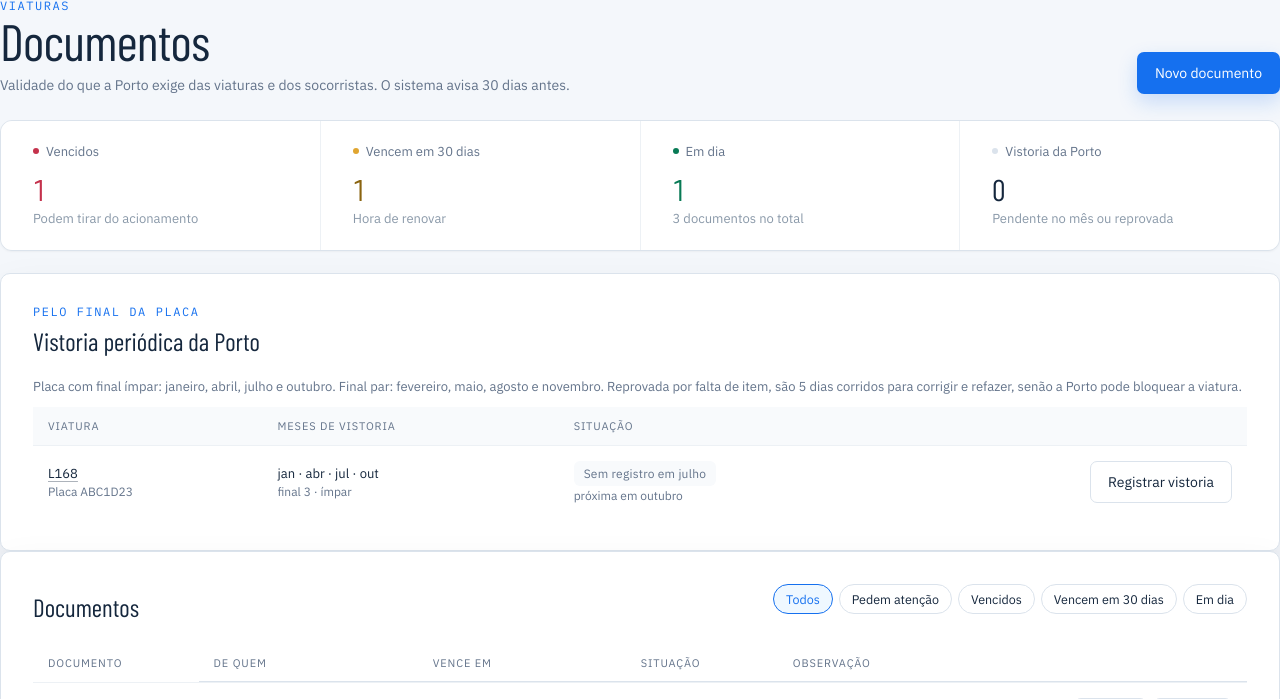
it: cadastra o documento de uma viatura
The image size is (1280, 699).
expect the 1st heading "Documentos" is shown: met, box [0,10,209,71]
Click the button "Novo documento": {"x": 1208, "y": 73} [1137,52,1279,94]
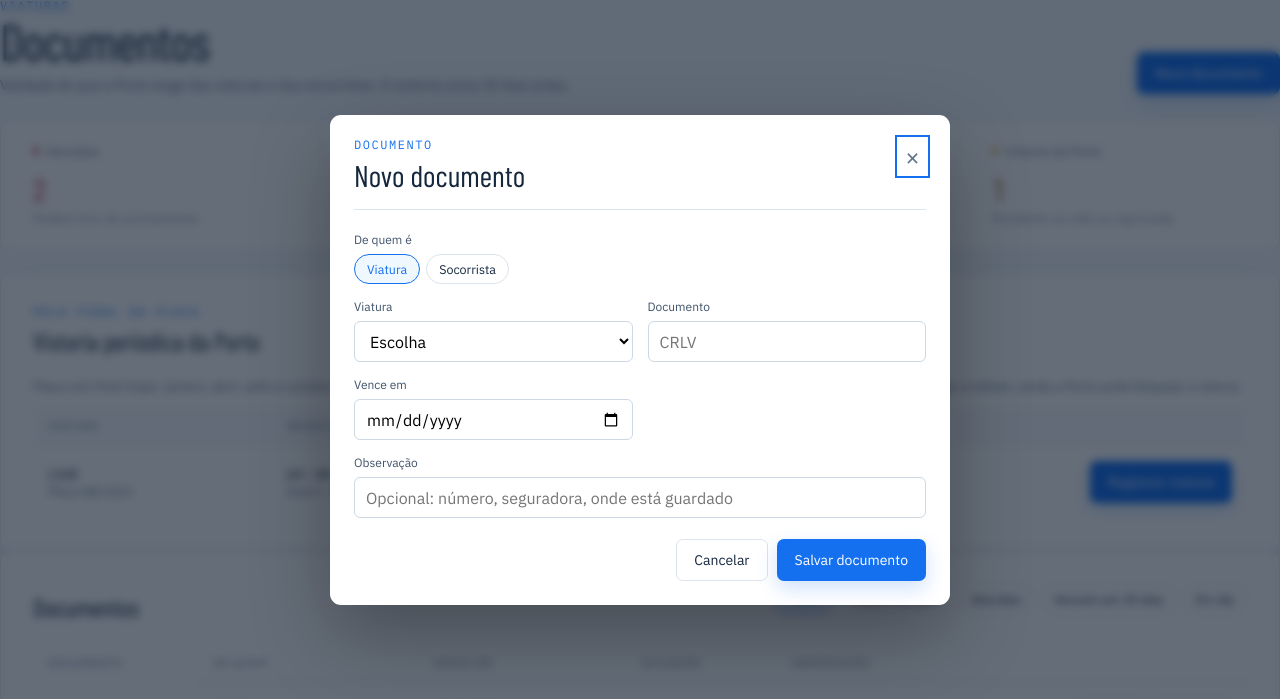
Click the dropdown labelled "Viatura": {"x": 493, "y": 342} [354,321,632,362]
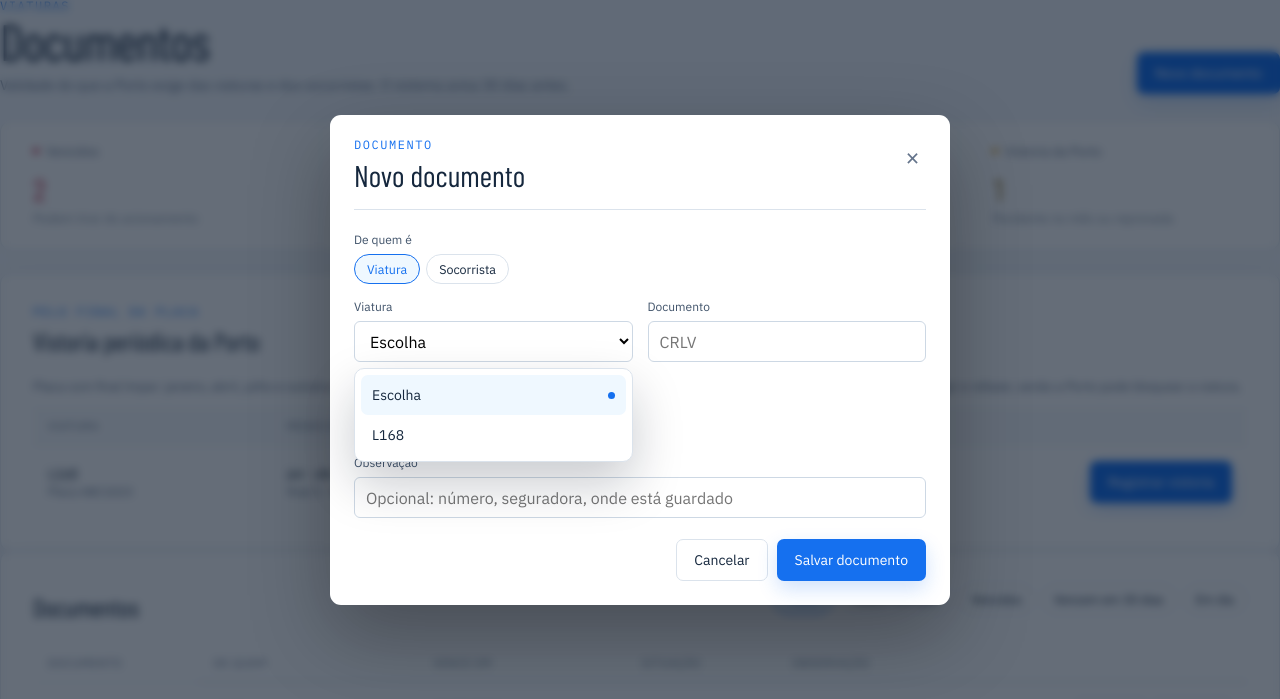
Click the option "L168": {"x": 388, "y": 435} [361,415,626,455]
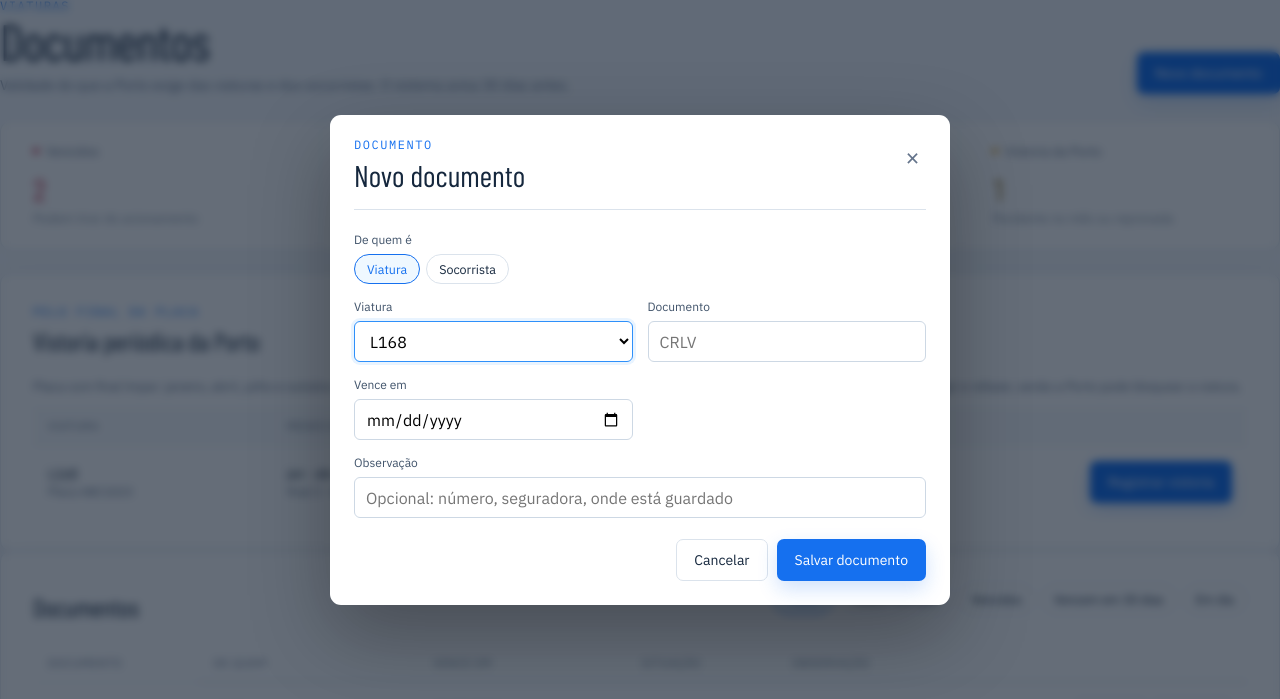
In the field labelled "Documento": {"x": 787, "y": 342} [648,321,926,362], type "Tacógrafo"
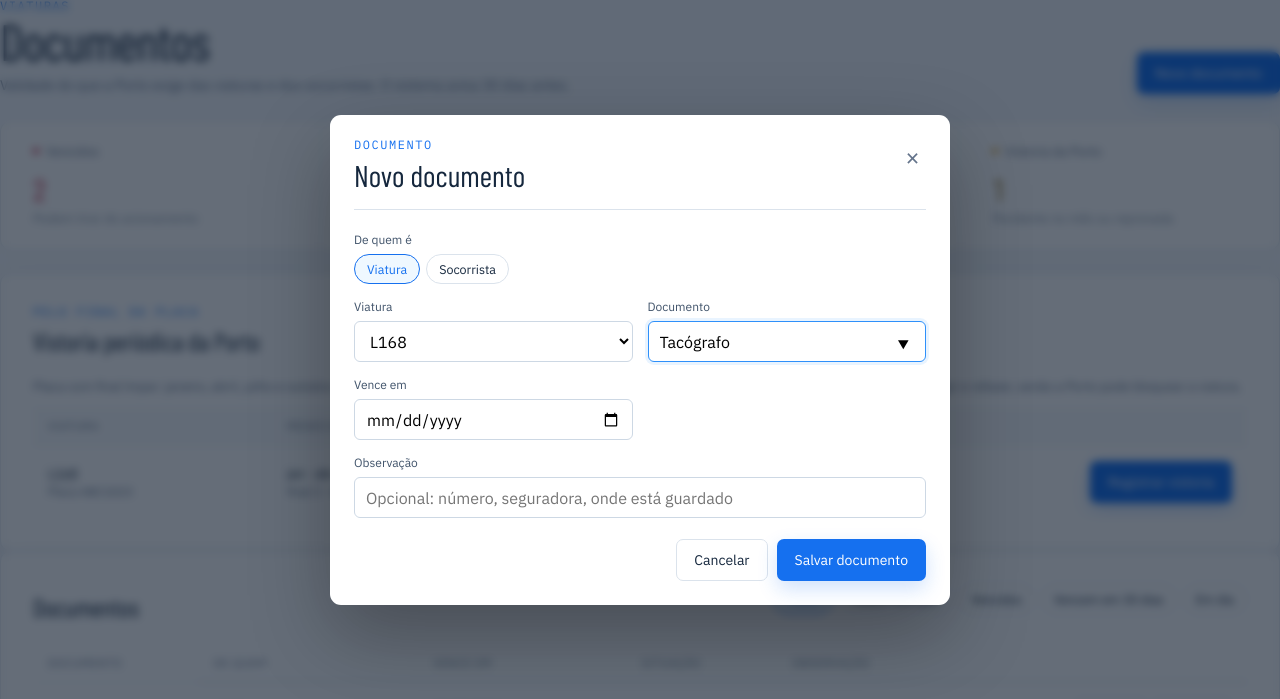
In the date field labelled "Vence em": {"x": 493, "y": 420} [354,399,632,440], type "2027-01-15"
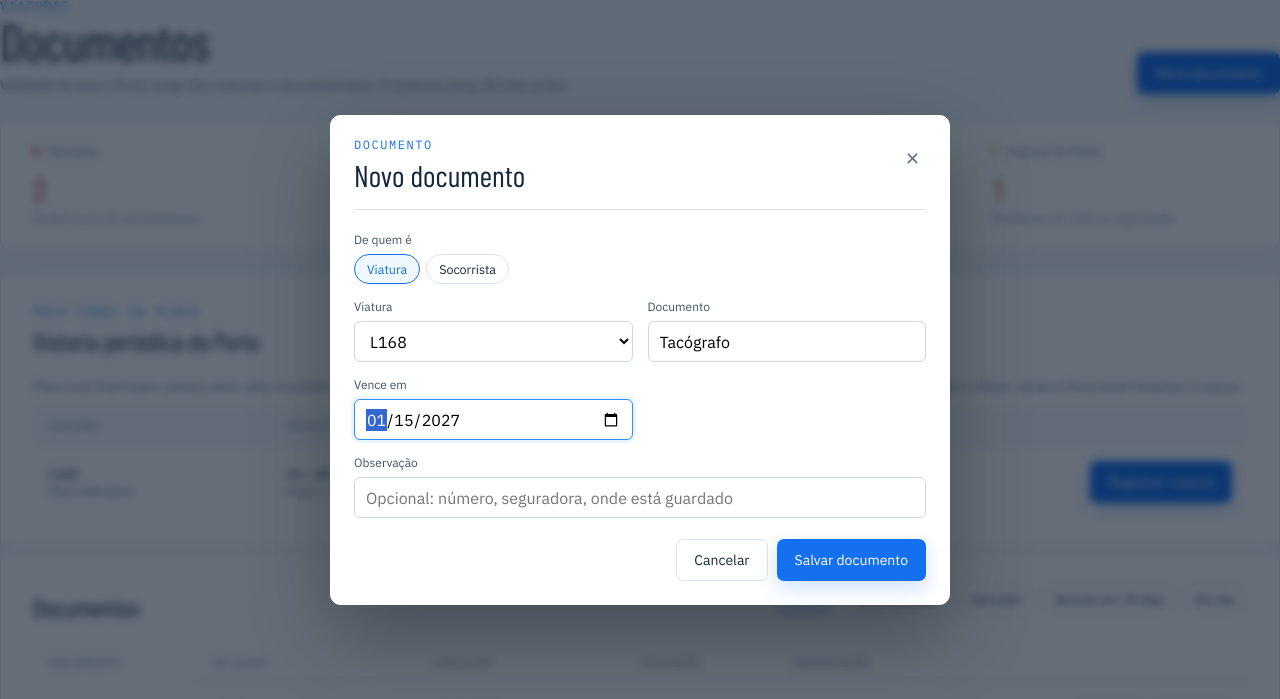
Click the button "Salvar documento": {"x": 851, "y": 560} [776,539,926,581]
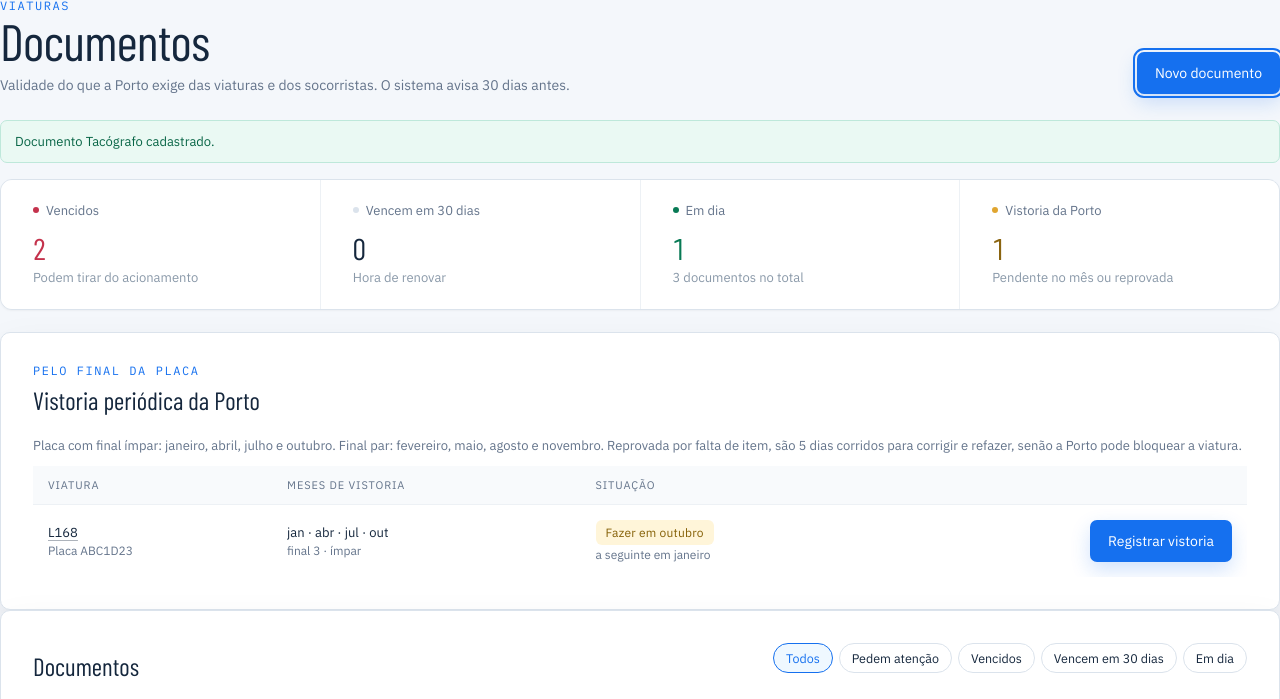
expect the text "Documento Tacógrafo cadastrado." is shown: met, box [0,120,1279,163]
